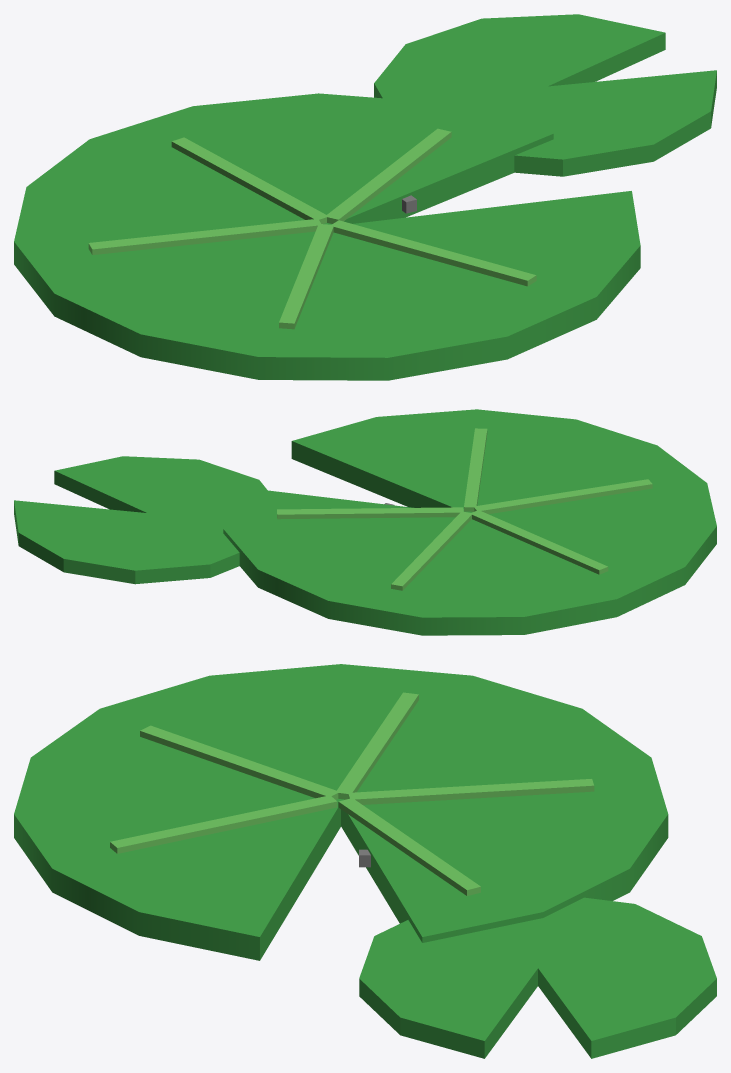
File: LilyPad.fbx
The picture shows the model from 3 angles, top to bottom: view 1: azimuth 30°, elevation 25°; view 2: azimuth 150°, elevation 25°; view 3: azimuth 270°, elevation 25°; orthographic projection. The views are drawn at different scales.
Visible parts, largest first — view 1: LilyPad_Pad, LilyPad_PadLight; view 2: LilyPad_Pad, LilyPad_PadLight; view 3: LilyPad_Pad, LilyPad_PadLight.
Part boxes in pixels (box(x1,y1,x2,y2)): LilyPad_Pad: box(14, 14, 716, 380); LilyPad_PadLight: box(88, 128, 536, 329); LilyPad_Pad: box(14, 409, 716, 635); LilyPad_PadLight: box(277, 428, 652, 590); LilyPad_Pad: box(14, 664, 716, 1058); LilyPad_PadLight: box(110, 692, 594, 895).
Size of the model in its own units: 268 by 10 by 214.
